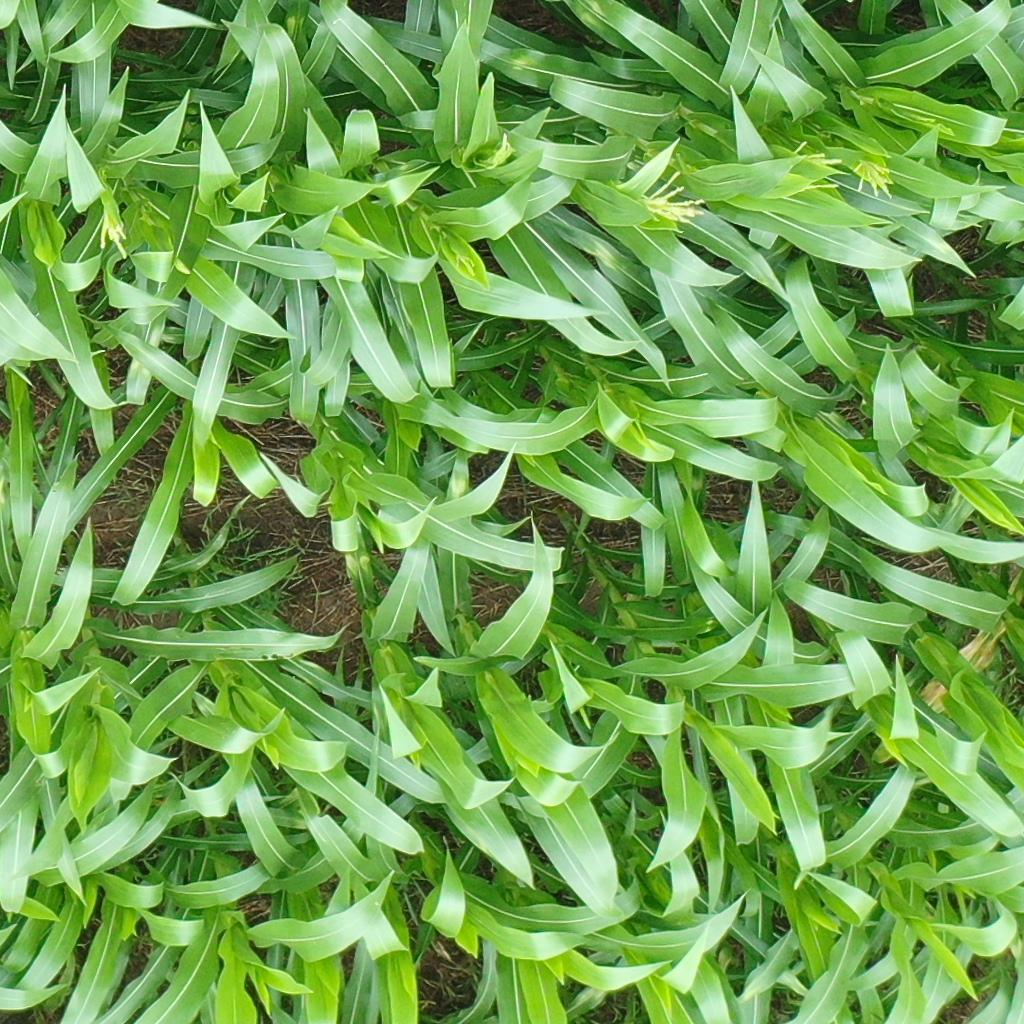Tassel: (638, 167, 710, 228), (785, 134, 843, 194), (93, 185, 132, 264), (852, 154, 897, 198), (478, 130, 515, 174), (451, 240, 480, 286)
